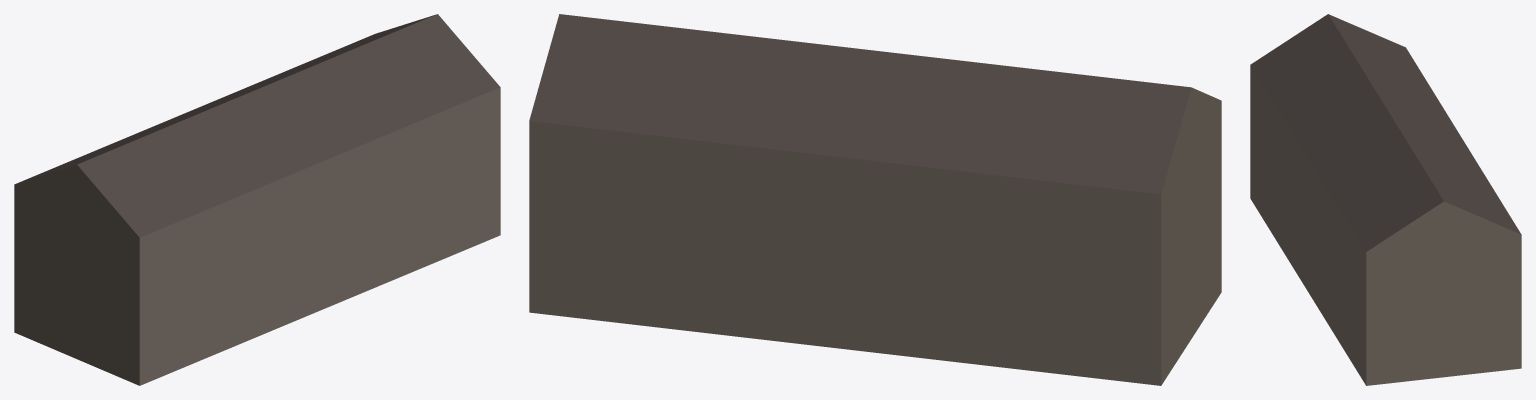
3 renders of one model, left to right at view 1: azimuth 30°, elevation 25°; view 2: azimuth 150°, elevation 25°; view 3: azimuth 270°, elevation 25°, orthographic. The views are drawn at different scales.
Visible parts, largest first — view 1: HP-w1201321559; view 2: HP-w1201321559; view 3: HP-w1201321559.
Part boxes in pixels (x1=…): HP-w1201321559: x1=14, y1=14, x2=500, y2=385; HP-w1201321559: x1=529, y1=14, x2=1221, y2=385; HP-w1201321559: x1=1250, y1=14, x2=1521, y2=385.
Bounding box in the file's own units: 29.52 × 11.83 × 16.53.
